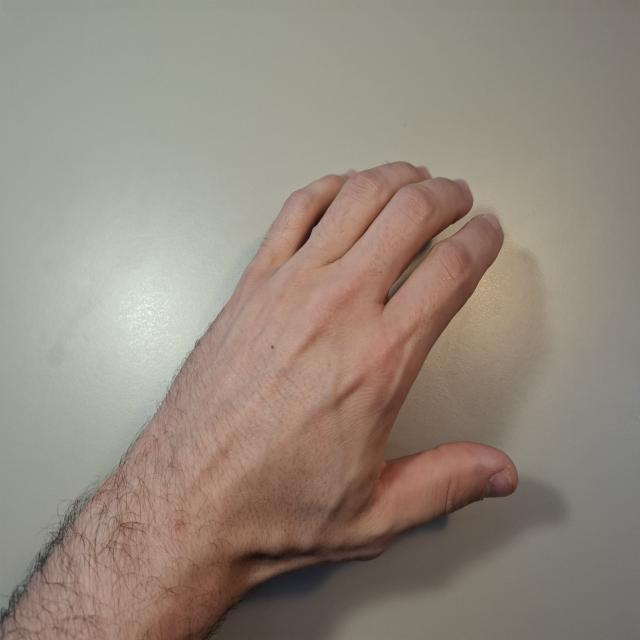glove_off: (157, 158, 521, 569)
